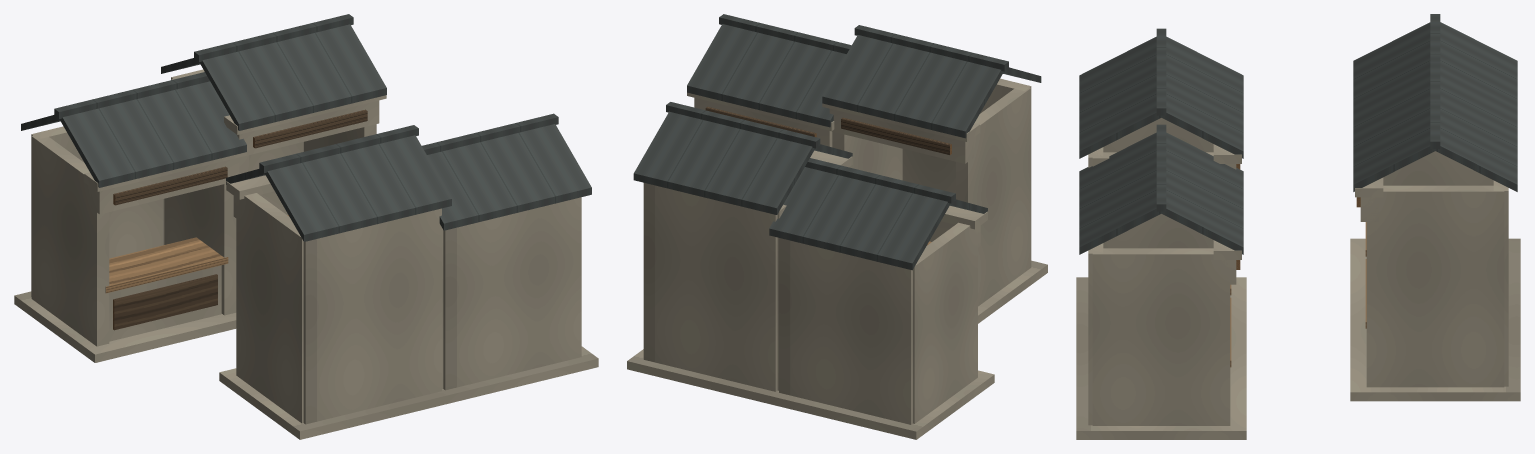
The model's file is minna.glb.
3 views of the same model, side by side, from view 1: azimuth 30°, elevation 25°; view 2: azimuth 150°, elevation 25°; view 3: azimuth 270°, elevation 25° (orthographic). The views are drawn at different scales.
Visible parts, largest first — view 1: minna; view 2: minna; view 3: minna.
Boxes of the visible parts, left/top/right/bottom form: minna: left=14, top=14, right=598, bottom=439; minna: left=627, top=14, right=1047, bottom=439; minna: left=1076, top=14, right=1520, bottom=439.
Size of the model in its own units: 3.66 by 2.3 by 3.58.
1 material, 1 textured.
